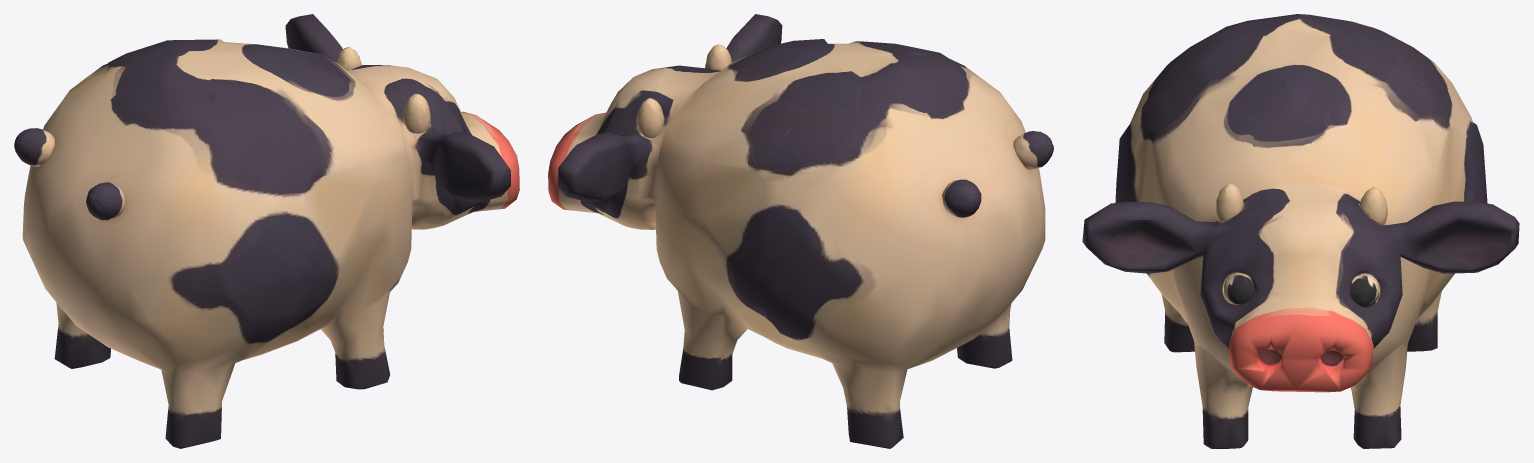
3 views of the same model, side by side, from view 1: azimuth 30°, elevation 25°; view 2: azimuth 150°, elevation 25°; view 3: azimuth 270°, elevation 25° (orthographic). The views are drawn at different scales.
Parts seen in each view (by area): view 1: tripo_node_23487d74-720a-4963-9dcc-d2470416b181; view 2: tripo_node_23487d74-720a-4963-9dcc-d2470416b181; view 3: tripo_node_23487d74-720a-4963-9dcc-d2470416b181.
Boxes of the visible parts, left/top/right/bottom form: tripo_node_23487d74-720a-4963-9dcc-d2470416b181: left=14, top=14, right=519, bottom=448; tripo_node_23487d74-720a-4963-9dcc-d2470416b181: left=548, top=14, right=1053, bottom=448; tripo_node_23487d74-720a-4963-9dcc-d2470416b181: left=1082, top=14, right=1519, bottom=448.
Bounding box in the file's own units: 0.998 × 0.6973 × 0.8027.
1 material, 1 textured.
